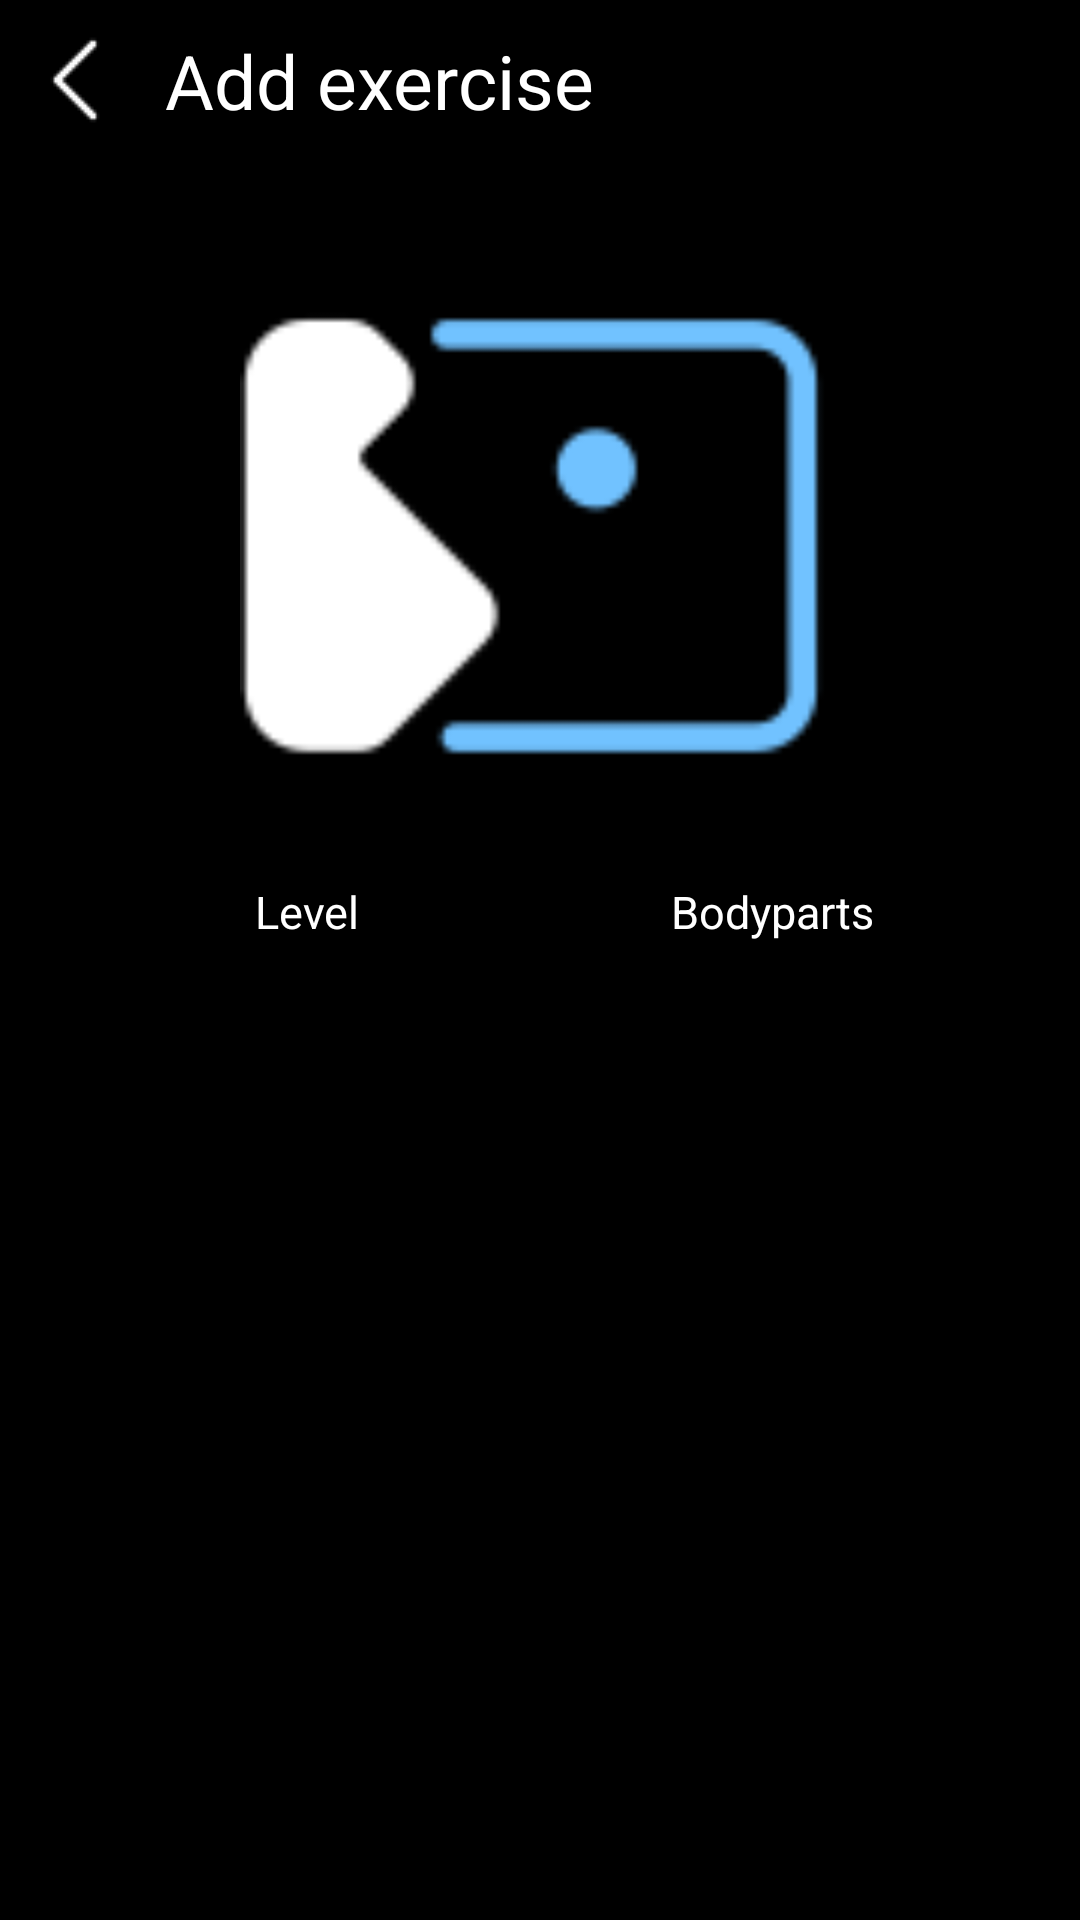

Icons on this 1080w x 1920h Android screen, each with the point to tap as (x,y):
back: (75,80)
